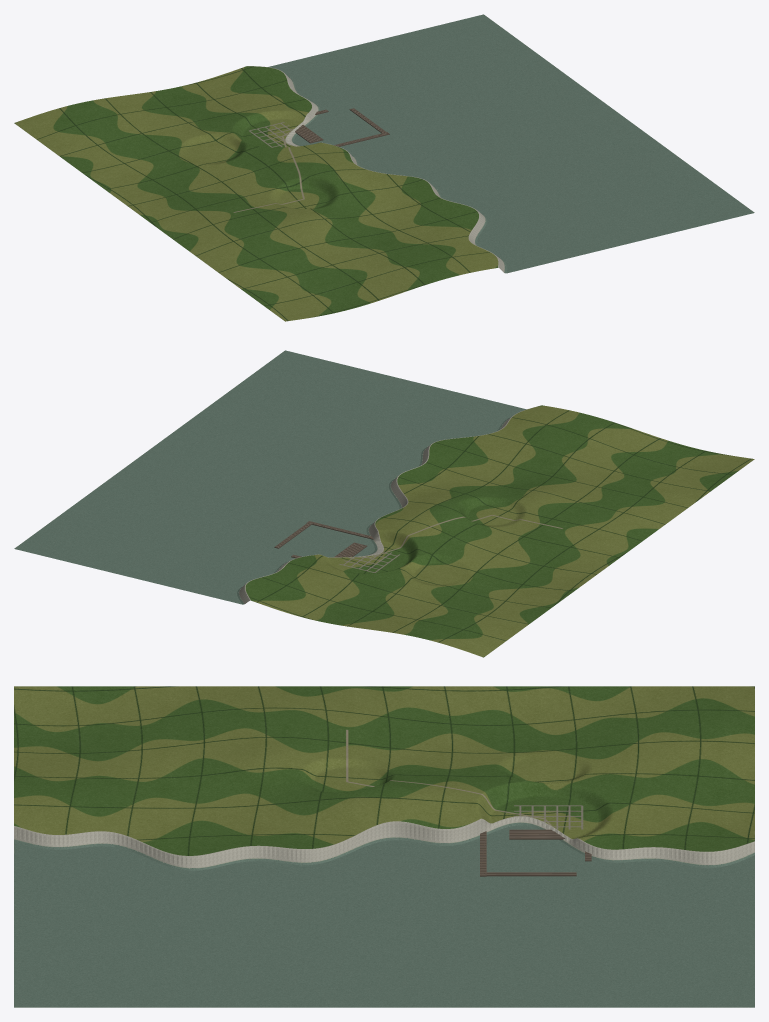
The model's file is britain.gltf.
The picture shows the model from 3 angles, top to bottom: view 1: azimuth 30°, elevation 25°; view 2: azimuth 150°, elevation 25°; view 3: azimuth 270°, elevation 25°; orthographic projection. The views are drawn at different scales.
Parts seen in each view (by area): view 1: Dover coast; view 2: Dover coast; view 3: Dover coast.
Boxes of the visible parts, box(x1,y1,x2,y2) form: Dover coast: box(14, 14, 754, 321); Dover coast: box(14, 350, 754, 657); Dover coast: box(14, 686, 754, 1007).
Bounding box in the file's own units: 6000 × 178 × 6000.
3 materials, 3 textured.
